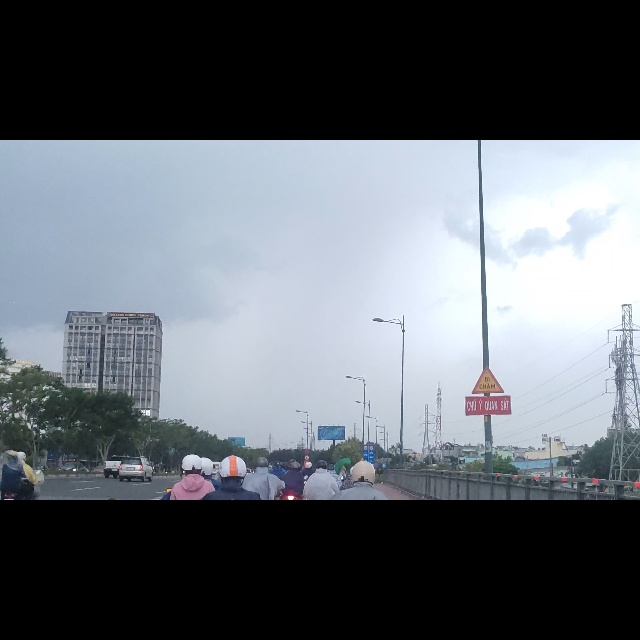bien_nguy_hiem: (469, 398, 506, 453)
